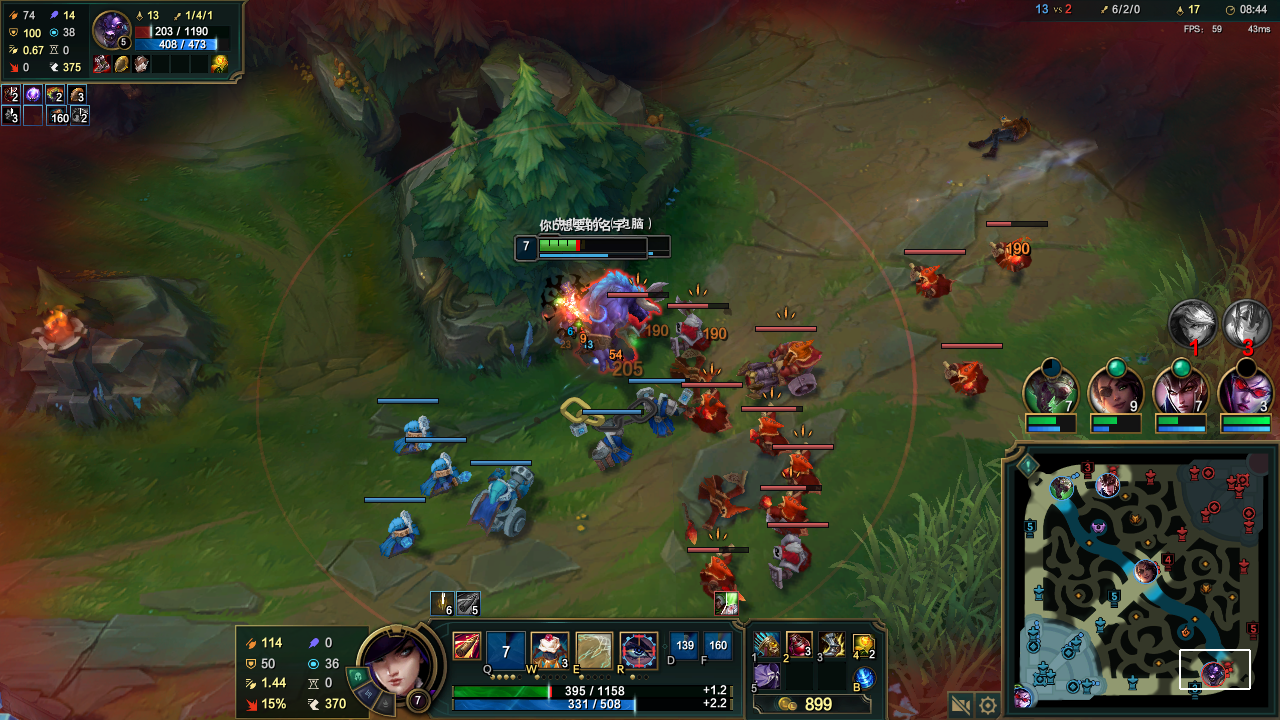DFXB: (747, 341, 822, 400), (935, 344, 990, 399), (767, 530, 819, 579), (684, 382, 733, 430), (698, 553, 739, 588), (789, 452, 830, 485), (763, 495, 803, 528), (996, 235, 1028, 268), (754, 418, 785, 452), (681, 316, 711, 345), (913, 268, 947, 290)
WFXB: (476, 473, 535, 544), (384, 509, 422, 561), (637, 388, 679, 433), (590, 421, 633, 462), (424, 452, 463, 494), (401, 416, 434, 450)
